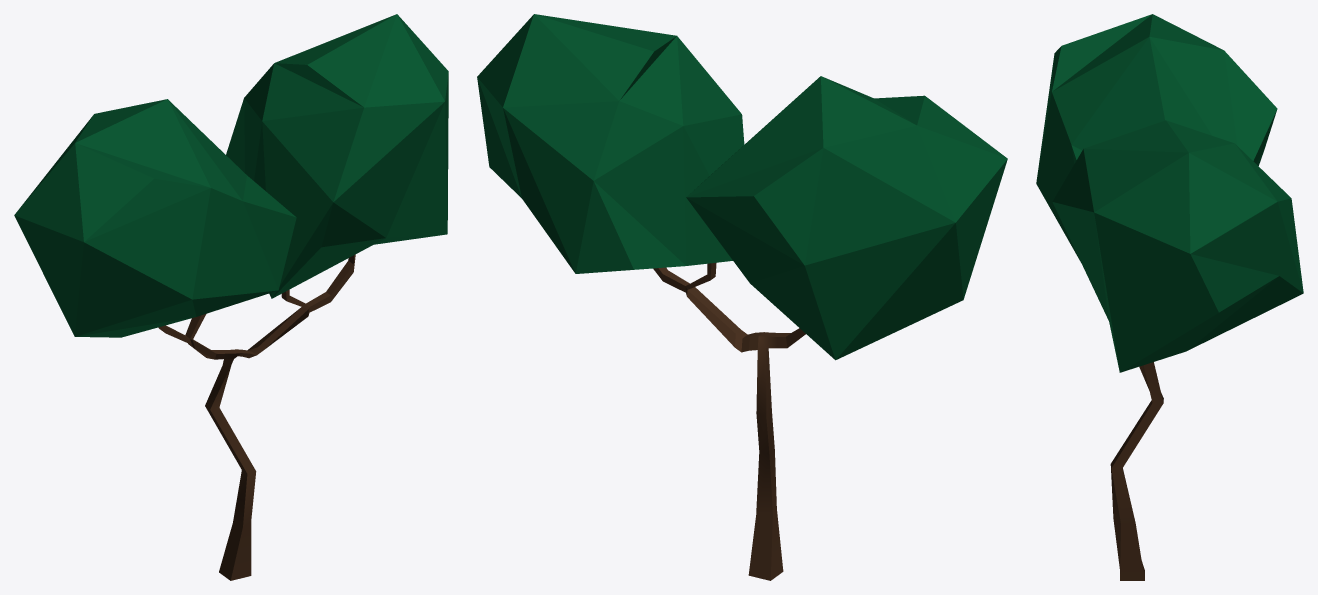
Rendered from Deci_Tree_05.fbx.
3 renders of one model, left to right at view 1: azimuth 30°, elevation 25°; view 2: azimuth 150°, elevation 25°; view 3: azimuth 270°, elevation 25°, orthographic. The views are drawn at different scales.
Visible parts, largest first — view 1: Tree5_Canopy2, Tree5_Canopy, Tree5; view 2: Tree5_Canopy2, Tree5_Canopy, Tree5; view 3: Tree5_Canopy, Tree5_Canopy2, Tree5.
Boxes of the visible parts, box(x1,y1,x2,y2) form: Tree5_Canopy2: box(14, 99, 296, 337); Tree5_Canopy: box(226, 14, 448, 298); Tree5: box(158, 254, 355, 580); Tree5_Canopy2: box(686, 76, 1007, 360); Tree5_Canopy: box(477, 14, 744, 273); Tree5: box(653, 262, 805, 580); Tree5_Canopy: box(1052, 120, 1303, 372); Tree5_Canopy2: box(1036, 14, 1277, 260); Tree5: box(1110, 362, 1163, 580).
Size of the model in its own units: 253 by 272 by 127.
